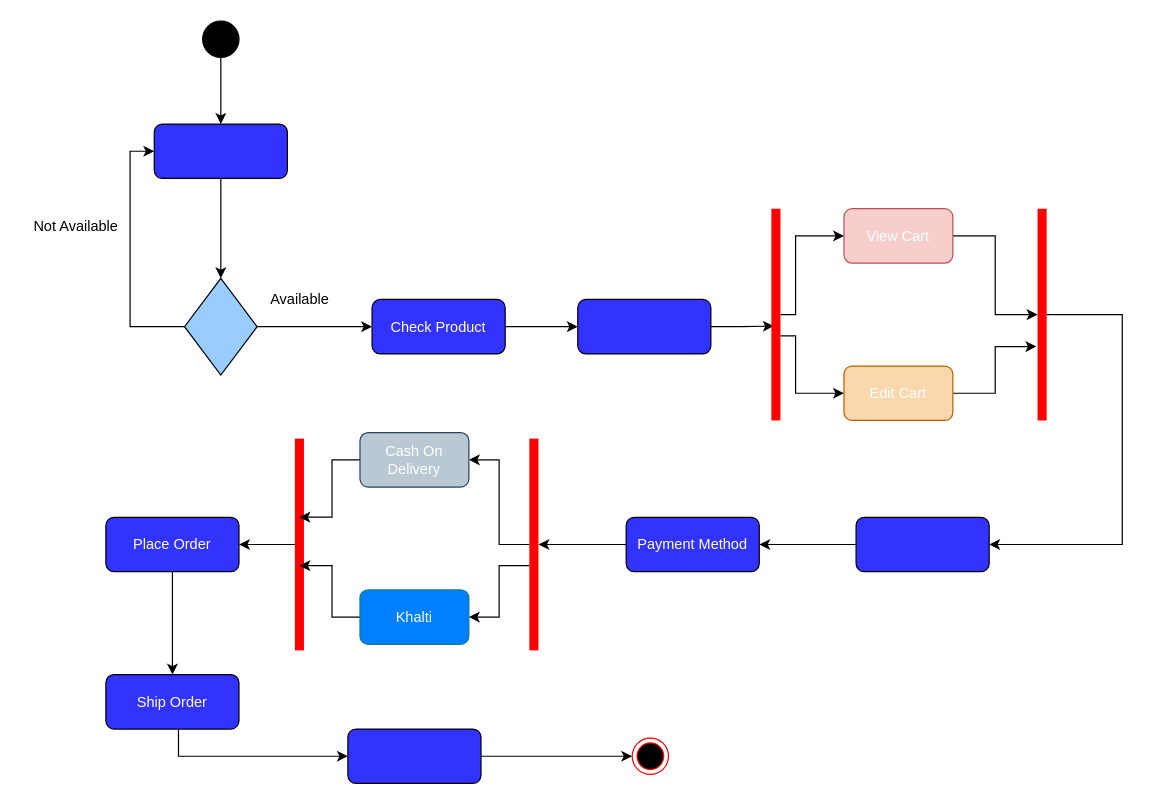
This 1153x805 diagram has some shape labels left out. Each missing label, with the centre of its shape:
"Add to Cart" goes at point 644,326.
"Confirm Order" goes at point 922,544.
"Receive Order" goes at point 414,755.
"Search Product" goes at point 220,150.
